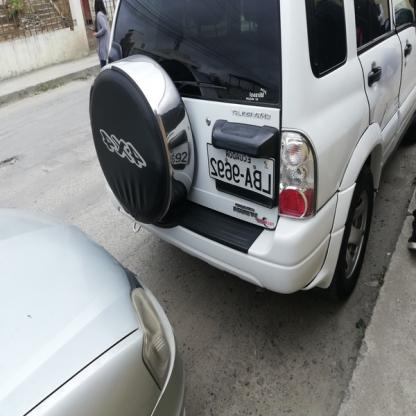Placa: (200, 147, 280, 196)
